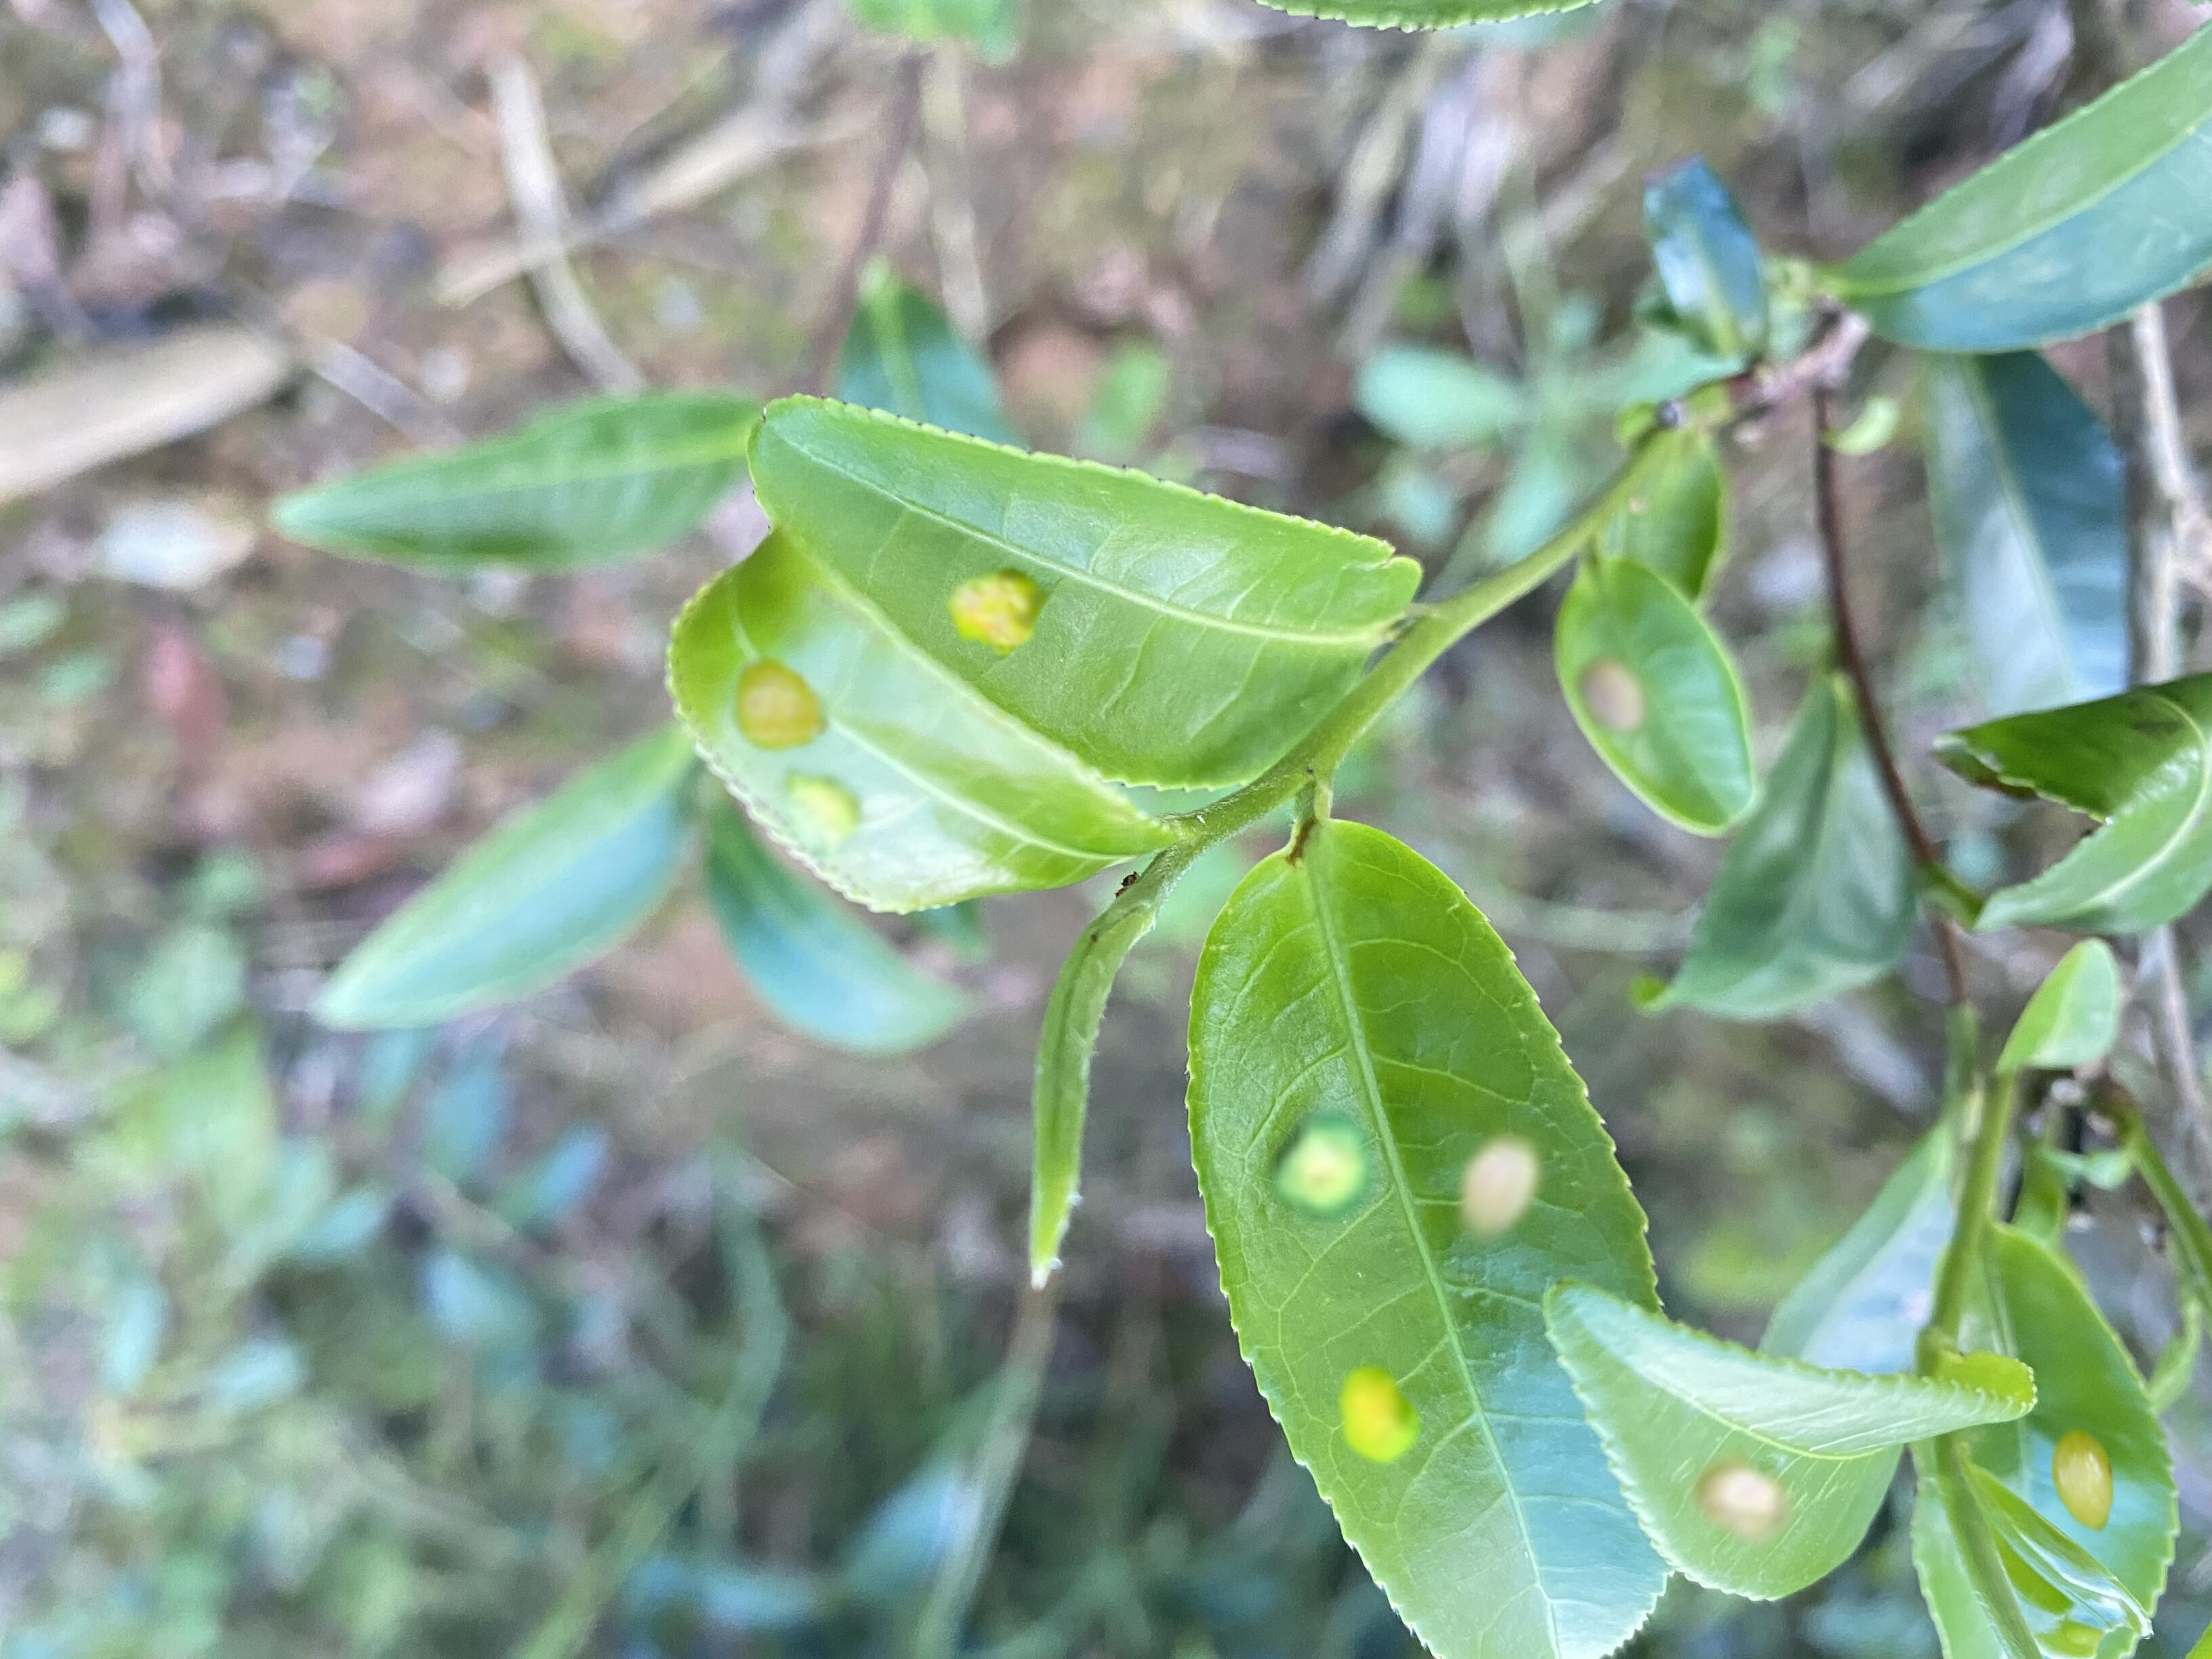chabing_high: (1184, 821, 1674, 1656), (664, 530, 1176, 917)
chabing_low: (745, 394, 1423, 791), (1541, 1277, 2038, 1603), (1956, 1230, 2179, 1617), (1547, 558, 1756, 840)
